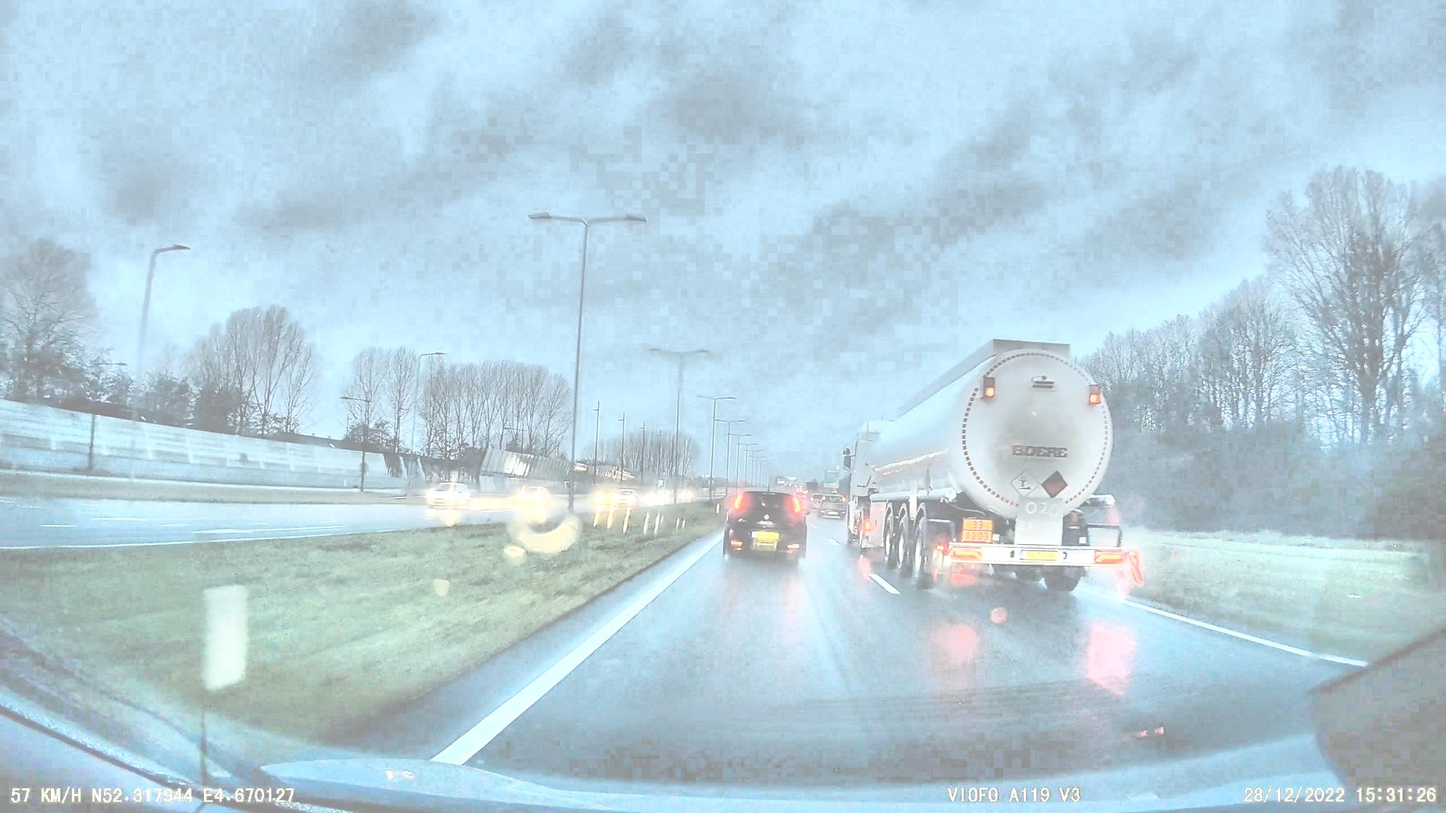Roads: (367, 514, 1352, 813)
